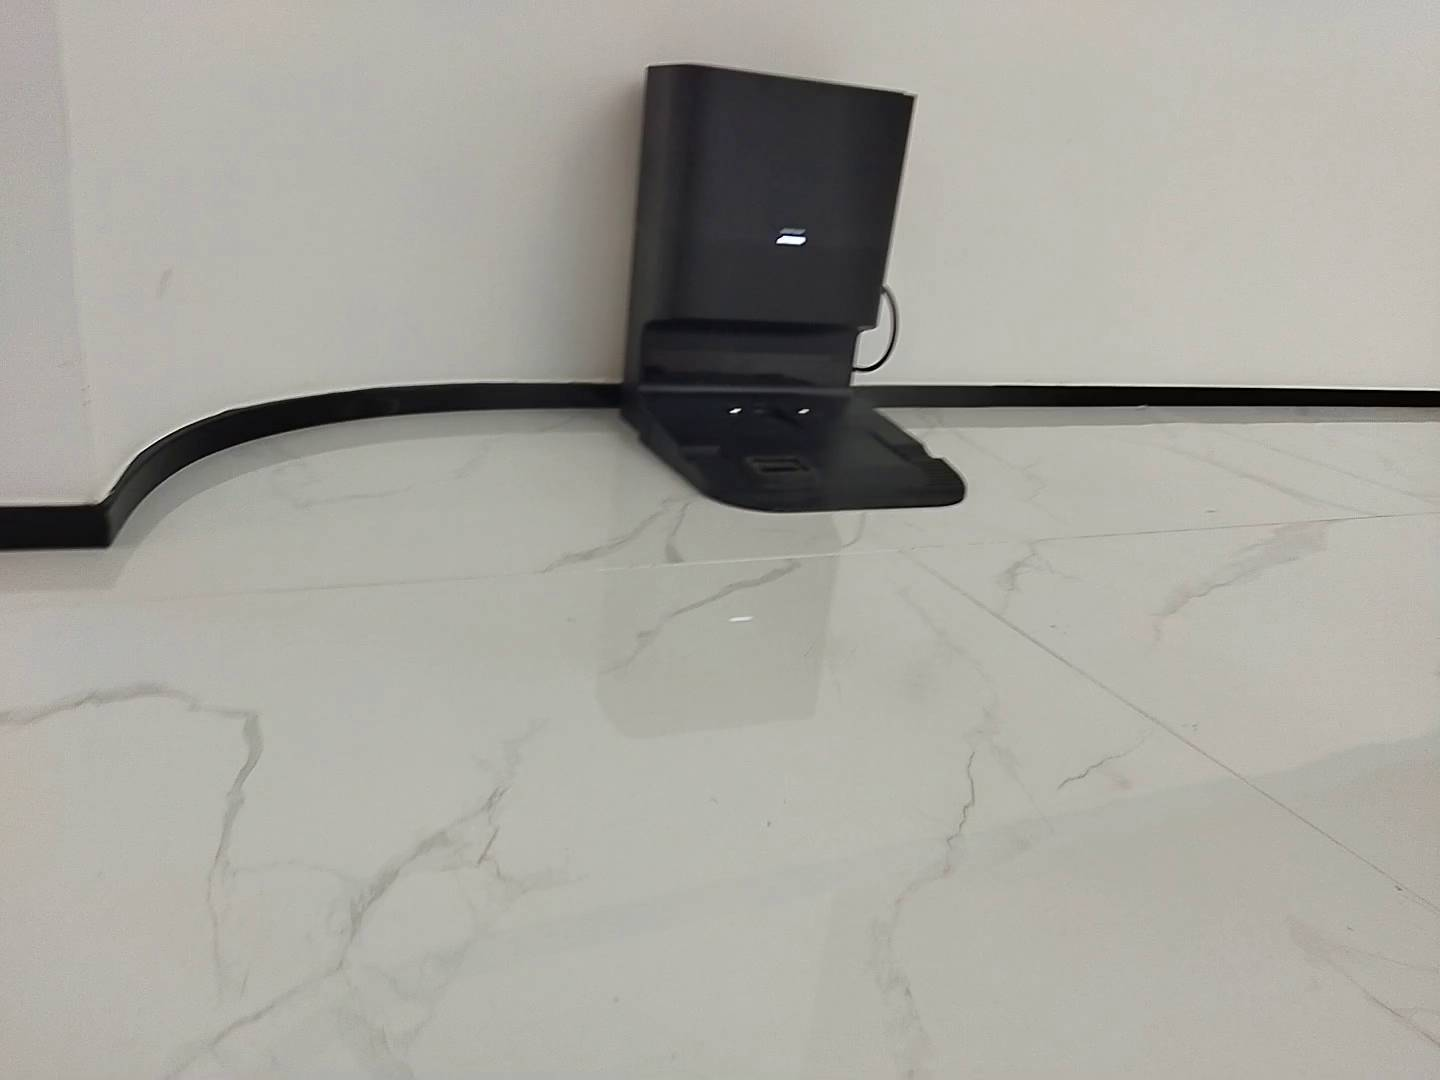dust collecting barrel: (617, 64, 967, 511)
